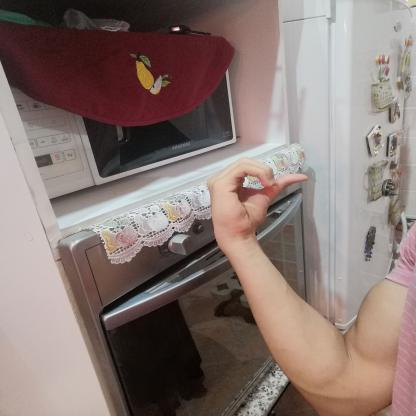WAW: (194, 148, 318, 249)
